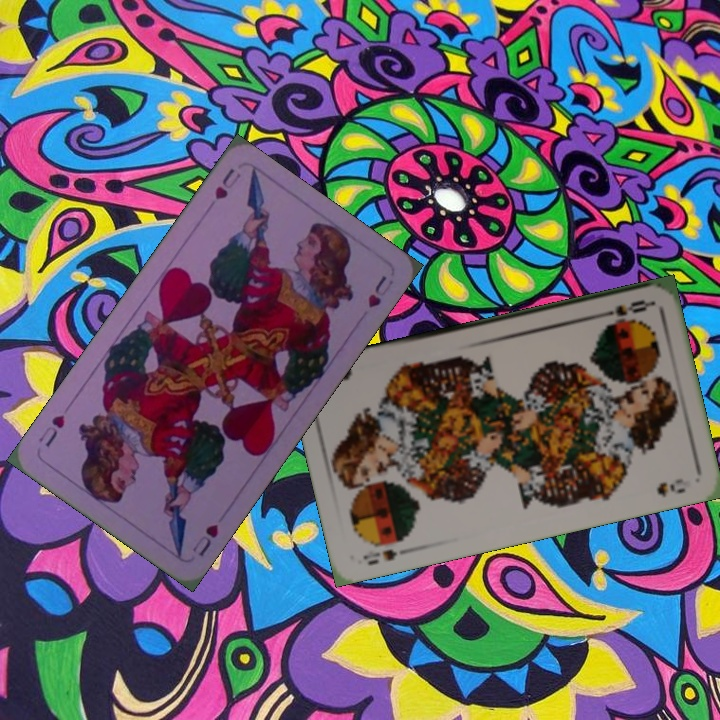HU: (187, 520, 221, 560), (210, 164, 244, 202)
SO: (595, 296, 654, 320), (358, 544, 414, 568)
